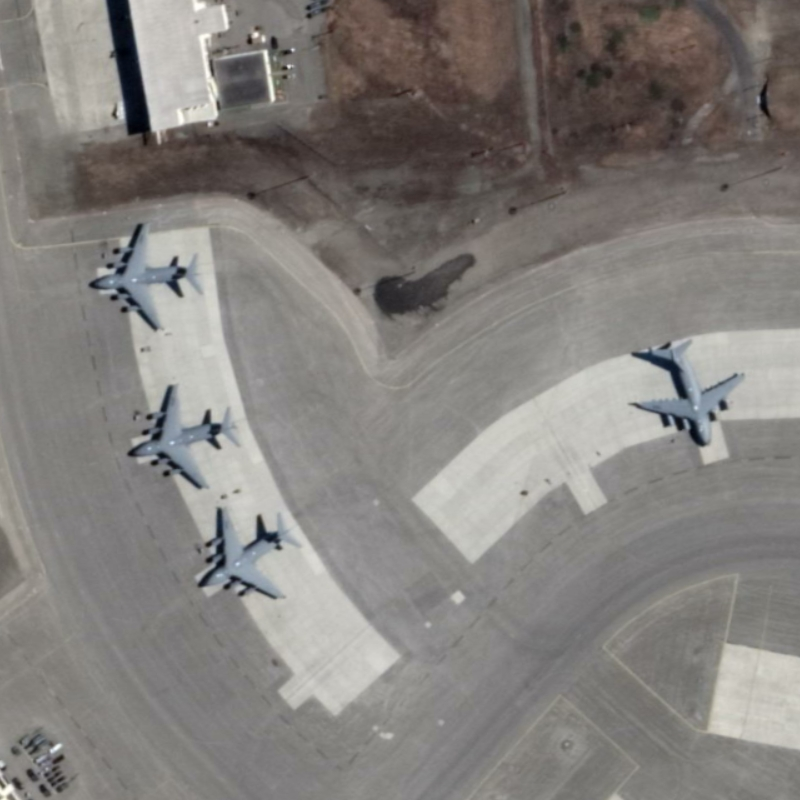A3: (621, 326, 749, 457), (117, 378, 246, 499), (82, 216, 205, 338), (176, 500, 310, 610)
